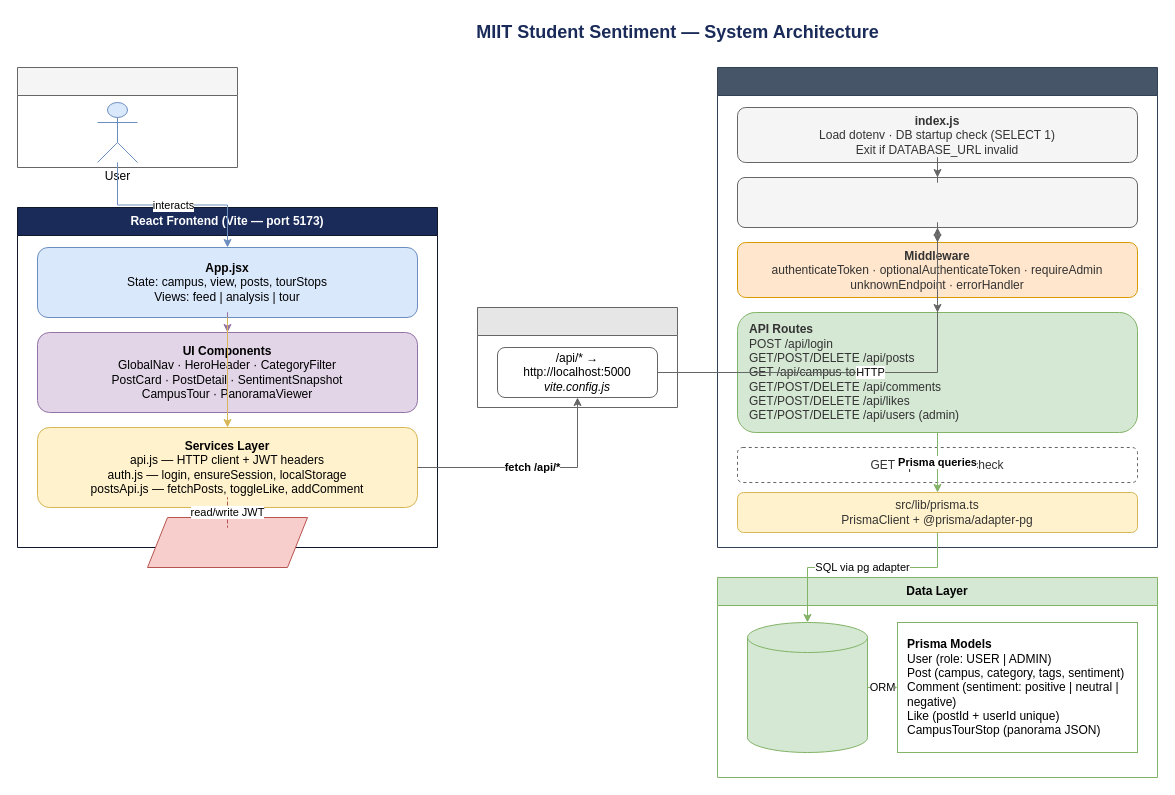
Image size: 1175x795. Some labels were removed from this diagram. The box of each missing label's shape, as (x1, y1, x2, y2) in pixels:
app.js CORS · express.json · requestLogger: (736, 176, 1138, 228)
Browser: (16, 66, 238, 168)
Express Backend (port 5000): (716, 66, 1158, 548)
localStorage authToken · authUser: (146, 516, 308, 568)
PostgreSQL student_sentiment: (746, 622, 868, 752)
Vite Dev Proxy: (476, 306, 678, 408)
